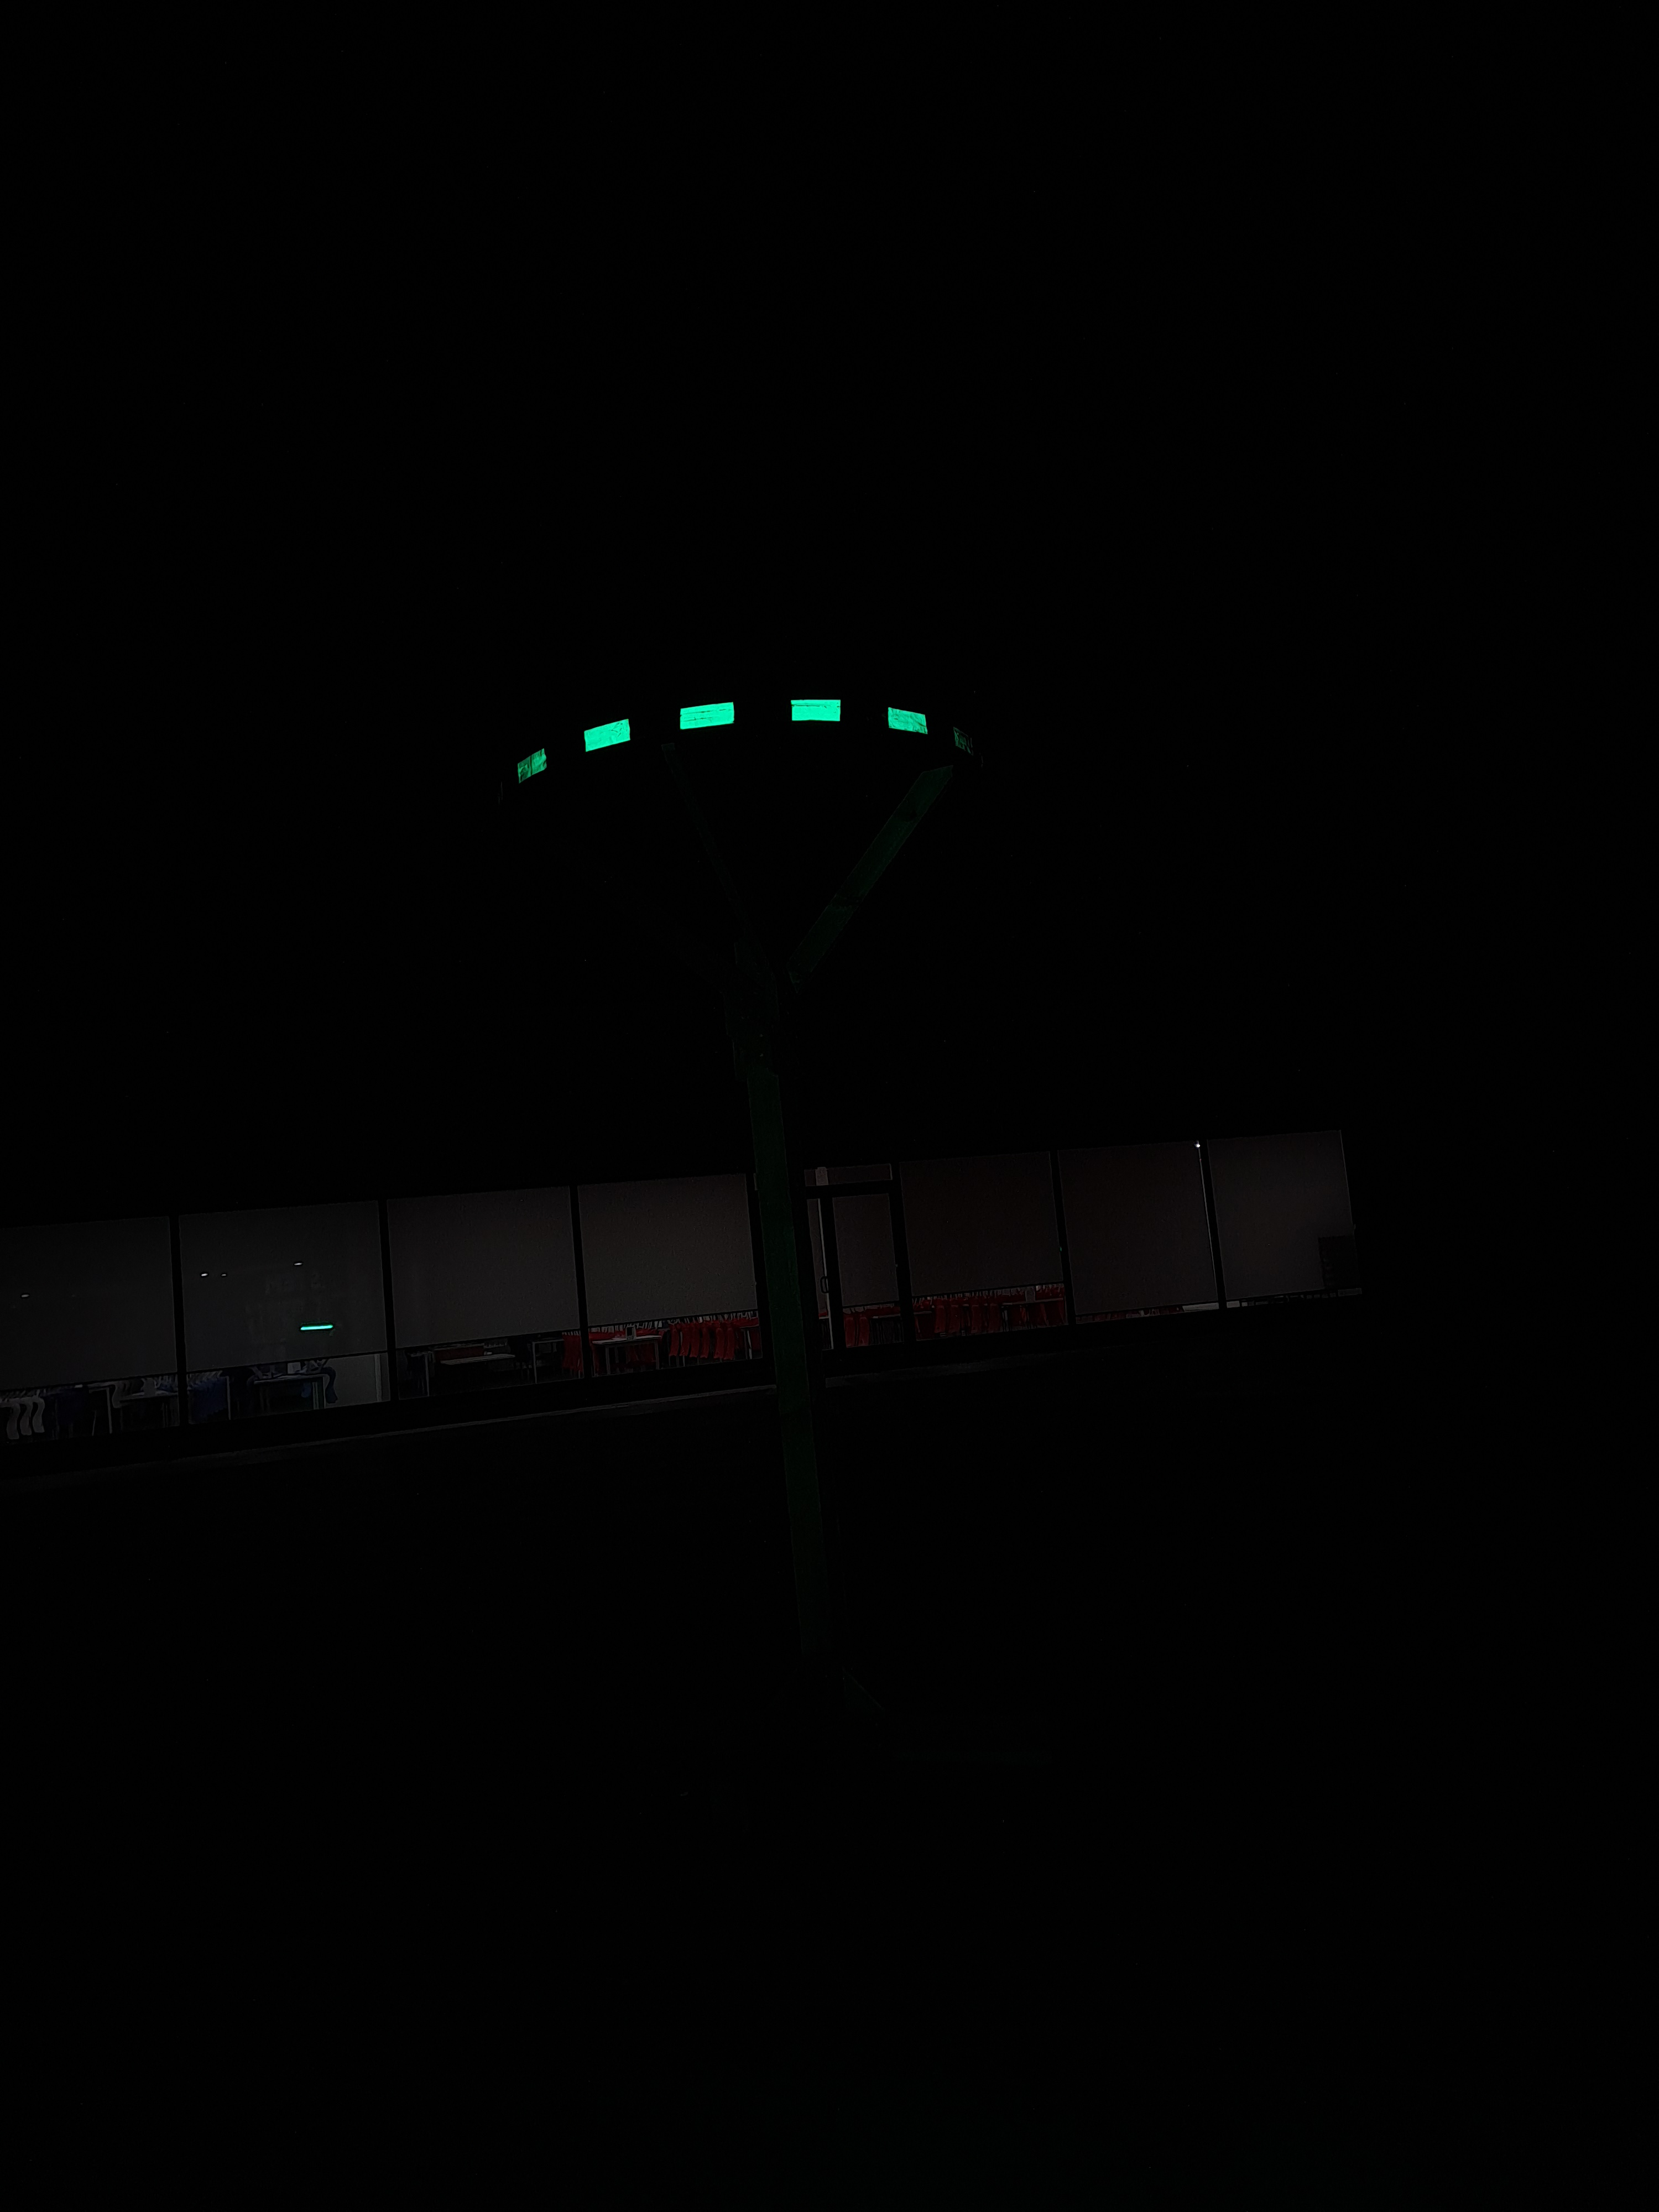hoop: (511, 697, 986, 813)
